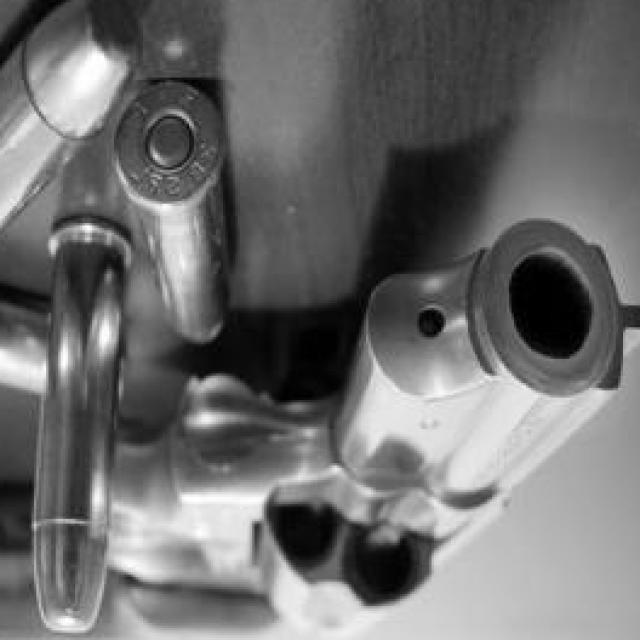pistol: (0, 204, 637, 640)
